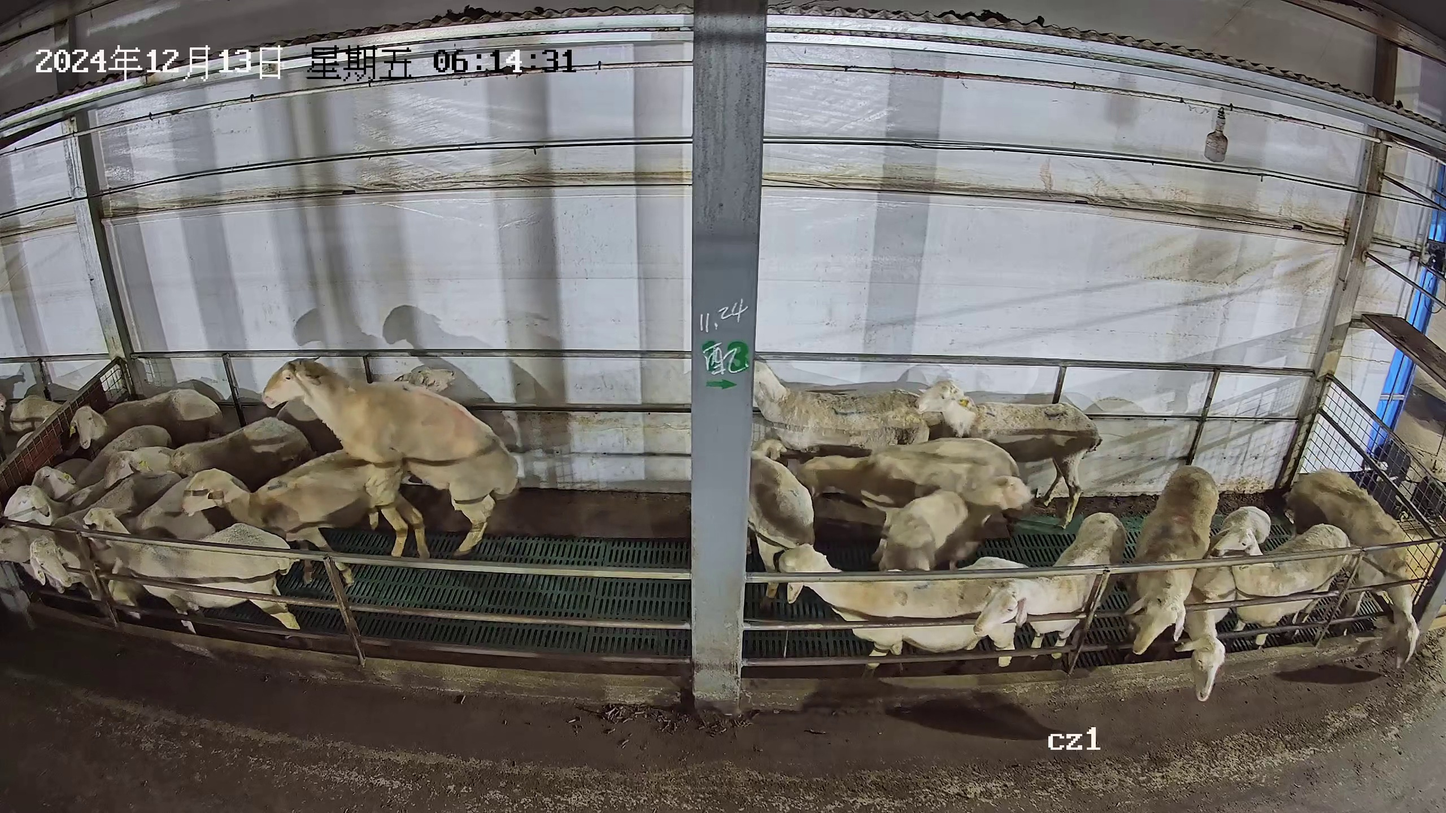Smounting: (173, 356, 520, 591)
mounted: (178, 445, 433, 588)
